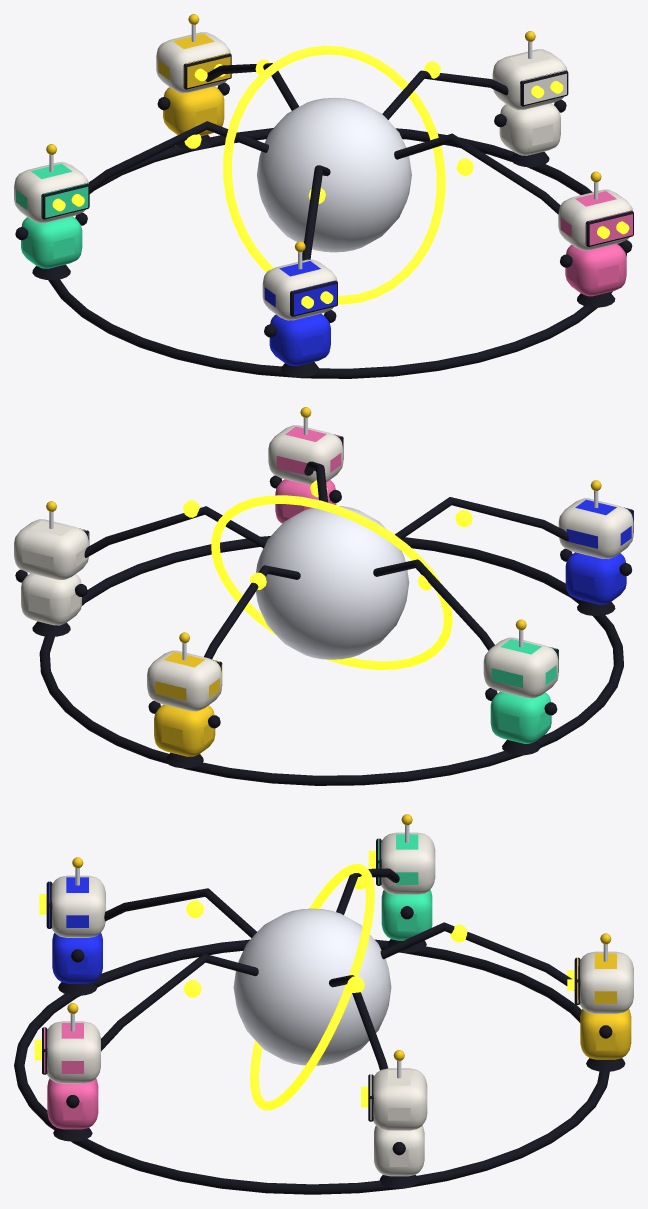
The model's file is orchestra.glb.
3 renders of one model, top to bottom at view 1: azimuth 30°, elevation 25°; view 2: azimuth 150°, elevation 25°; view 3: azimuth 270°, elevation 25°, orthographic. The views are drawn at different scales.
Visible parts, largest first — view 1: hub, spin_ring, bob_a2, bob_a4, bob_a3, bob_a0, wires, bob_a1, spin_halo, pulse_nodes; view 2: hub, spin_ring, bob_a2, bob_a1, bob_a0, bob_a3, wires, bob_a4, spin_halo, pulse_nodes; view 3: hub, spin_ring, wires, bob_a1, bob_a4, bob_a0, bob_a3, bob_a2, spin_halo, pulse_nodes.
Boxes of the visible parts, left/top/right/bottom form: hub: left=257, top=97, right=411, bottom=252; spin_ring: left=48, top=128, right=626, bottom=378; bob_a2: left=14, top=144, right=89, bottom=280; bob_a4: left=558, top=171, right=633, bottom=307; bob_a3: left=262, top=241, right=337, bottom=377; bob_a0: left=492, top=31, right=568, bottom=167; wires: left=88, top=63, right=560, bottom=260; bob_a1: left=156, top=14, right=231, bottom=150; spin_halo: left=223, top=45, right=445, bottom=304; pulse_nodes: left=184, top=59, right=473, bottom=203; hub: left=256, top=506, right=409, bottom=659; spin_ring: left=39, top=536, right=623, bottom=785; bob_a2: left=483, top=619, right=558, bottom=755; bob_a1: left=147, top=632, right=222, bottom=768; bob_a0: left=14, top=501, right=89, bottom=636; bob_a3: left=558, top=480, right=633, bottom=615; wires: left=84, top=461, right=568, bottom=659; bob_a4: left=268, top=407, right=343, bottom=523; spin_halo: left=211, top=495, right=452, bottom=669; pulse_nodes: left=183, top=480, right=472, bottom=590; hub: left=233, top=908, right=391, bottom=1065; spin_ring: left=14, top=939, right=609, bottom=1194; wires: left=101, top=868, right=574, bottom=1070; bob_a1: left=567, top=933, right=633, bottom=1071; bob_a4: left=34, top=1003, right=100, bottom=1141; bob_a0: left=361, top=1050, right=427, bottom=1188; bob_a3: left=39, top=857, right=105, bottom=995; bob_a2: left=368, top=814, right=435, bottom=952; spin_halo: left=250, top=864, right=374, bottom=1110; pulse_nodes: left=183, top=876, right=467, bottom=997.
Bounding box in the file's own units: 8.52 × 3.16 × 8.24.
